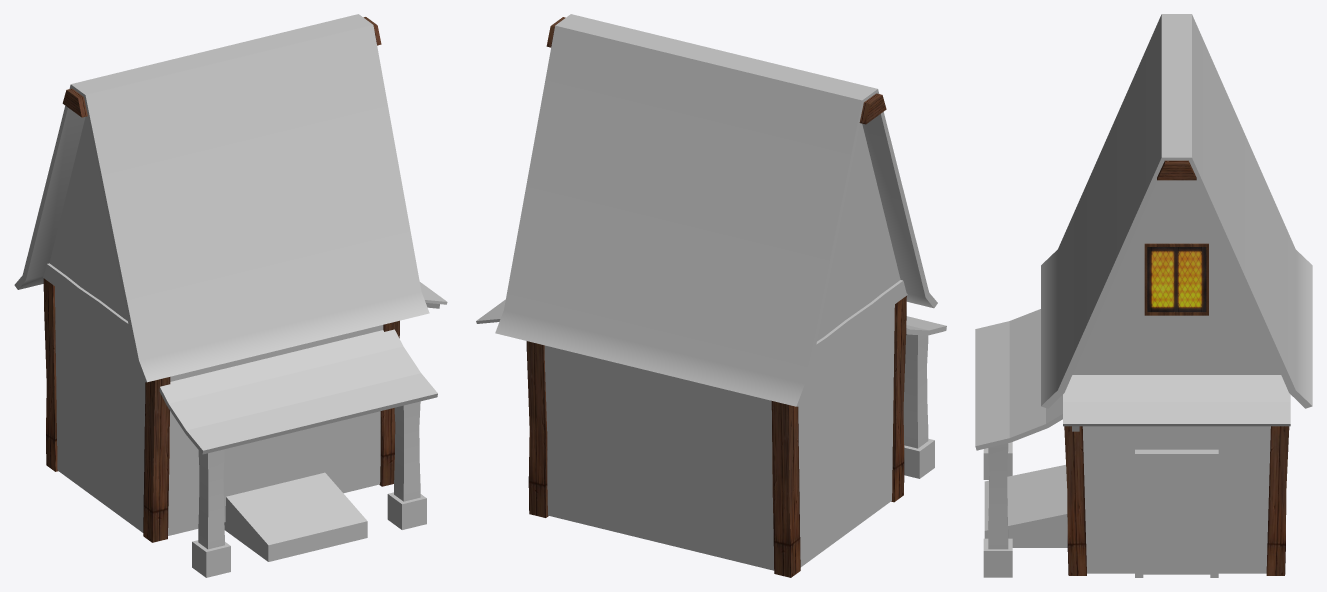
The model's file is hus 1.fbx.
The picture shows the model from 3 angles, left to right: view 1: azimuth 30°, elevation 25°; view 2: azimuth 150°, elevation 25°; view 3: azimuth 270°, elevation 25°; orthographic projection. The views are drawn at different scales.
Parts seen in each view (by area): view 1: pCube1, pCube20, pCube21, pCube16, pCube4, pCube6; view 2: pCube1, pCube4, pCube21, pCube20, pCube6; view 3: pCube1, pCube20, pCube2, pCube4, pCube16, pCube8, pCube21, pCube6.
Part boxes in pixels (left/top/right/bottom): pCube1: left=14, top=14, right=429, bottom=535; pCube20: left=159, top=282, right=447, bottom=454; pCube21: left=43, top=263, right=426, bottom=577; pCube16: left=224, top=472, right=367, bottom=561; pCube4: left=43, top=278, right=399, bottom=542; pCube6: left=62, top=17, right=381, bottom=117; pCube1: left=495, top=14, right=937, bottom=570; pCube4: left=526, top=296, right=906, bottom=577; pCube21: left=812, top=280, right=934, bottom=478; pCube20: left=476, top=299, right=946, bottom=335; pCube6: left=546, top=17, right=886, bottom=124; pCube1: left=1041, top=14, right=1312, bottom=573; pCube20: left=975, top=309, right=1290, bottom=450; pCube2: left=1135, top=449, right=1218, bottom=577; pCube4: left=1064, top=426, right=1289, bottom=575; pCube16: left=984, top=464, right=1067, bottom=547; pCube8: left=1144, top=243, right=1208, bottom=315; pCube21: left=983, top=442, right=1012, bottom=577; pCube6: left=1157, top=160, right=1196, bottom=180.
Size of the model in its own units: 20.34 by 25.99 by 18.19.
